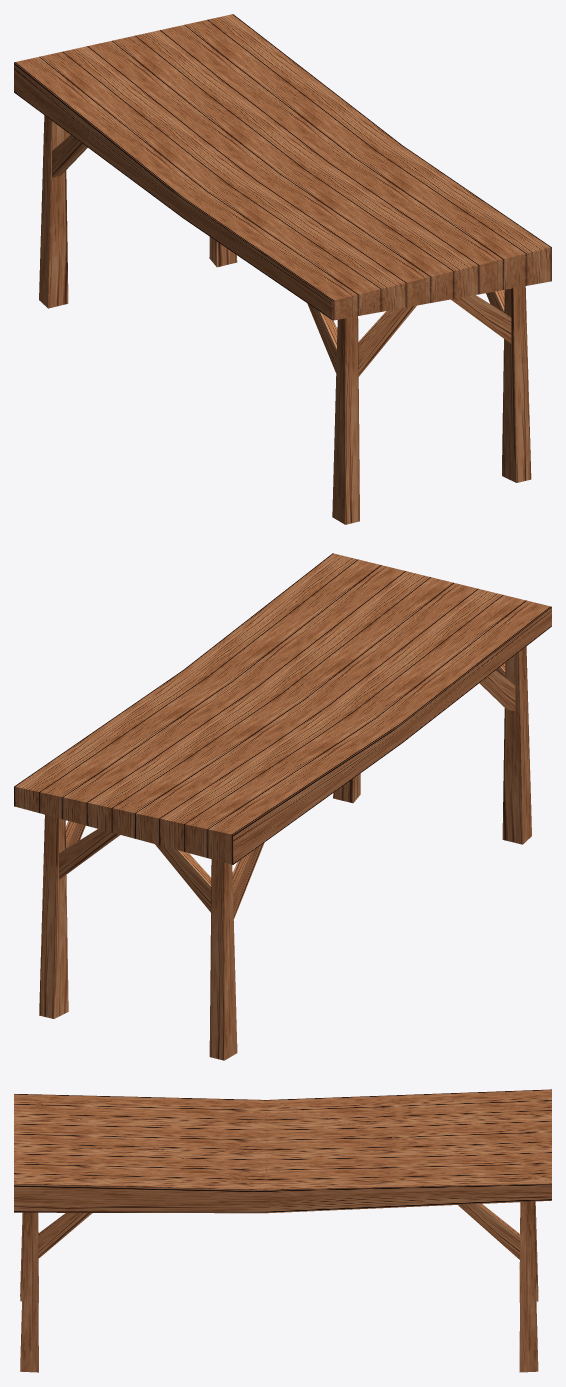
The model's file is drevena vec na seno aby neoprsalo.fbx.
The picture shows the model from 3 angles, top to bottom: view 1: azimuth 30°, elevation 25°; view 2: azimuth 150°, elevation 25°; view 3: azimuth 270°, elevation 25°; orthographic projection. The views are drawn at different scales.
Visible parts, largest first — view 1: ddds; view 2: ddds; view 3: ddds.
Part boxes in pixels (x1,y1,x2,y2): ddds: (14, 14, 551, 524); ddds: (14, 553, 551, 1060); ddds: (14, 1089, 551, 1372).
Size of the model in its own units: 880 by 905 by 2217.
Materials: 9 (9 with a texture image).
